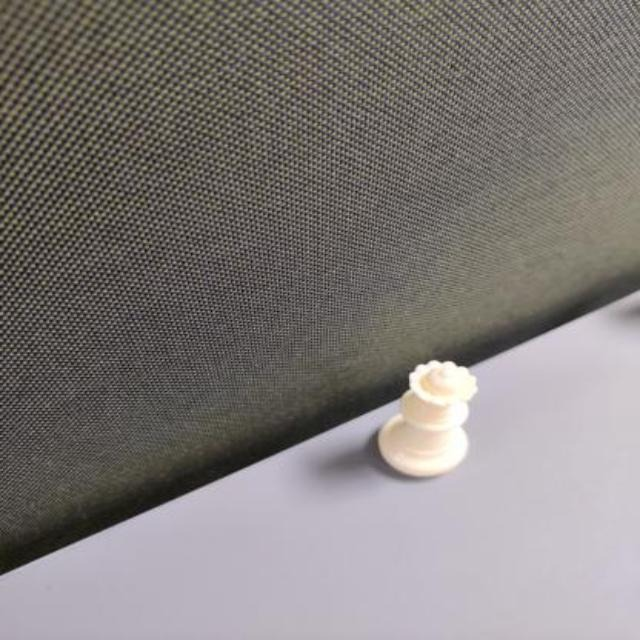white-queen: (376, 359, 479, 477)
